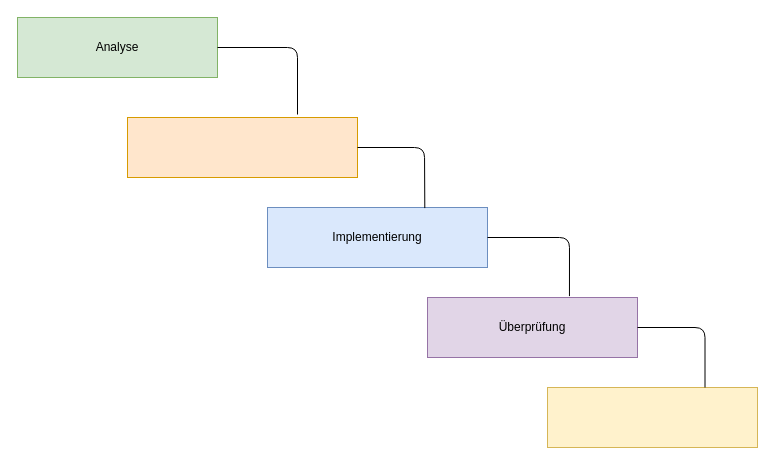
This 775x465 diagram has some shape labels left out. Here are the shapes that lost their labels. From the top down, the centre of each, then its label:
the point at 242,147: Entwurf
the point at 652,417: Wartung
